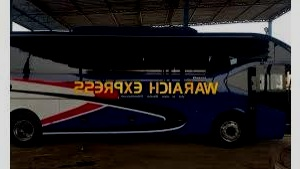bus: (10, 24, 291, 146)
